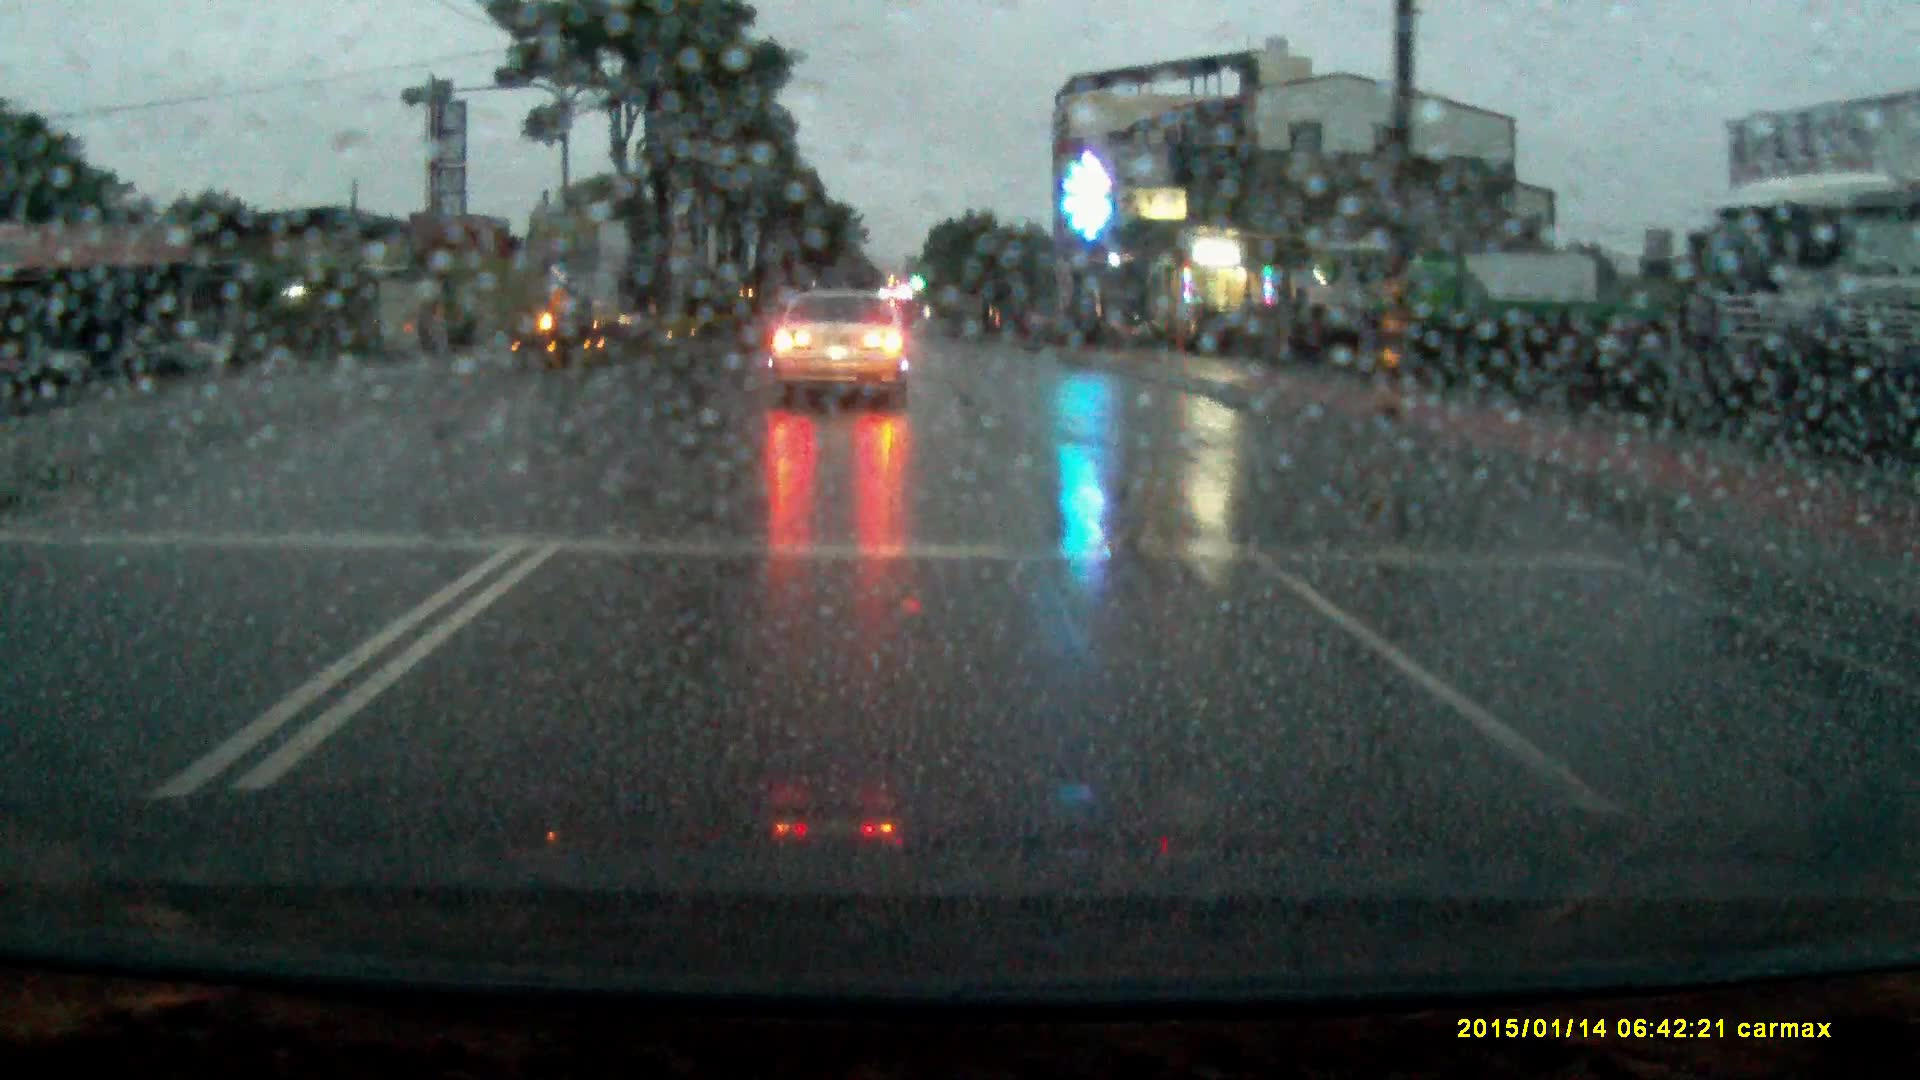vehicle: (1695, 170, 1920, 435), (1395, 251, 1604, 349), (773, 289, 919, 413), (1307, 233, 1418, 351), (545, 274, 609, 340)
